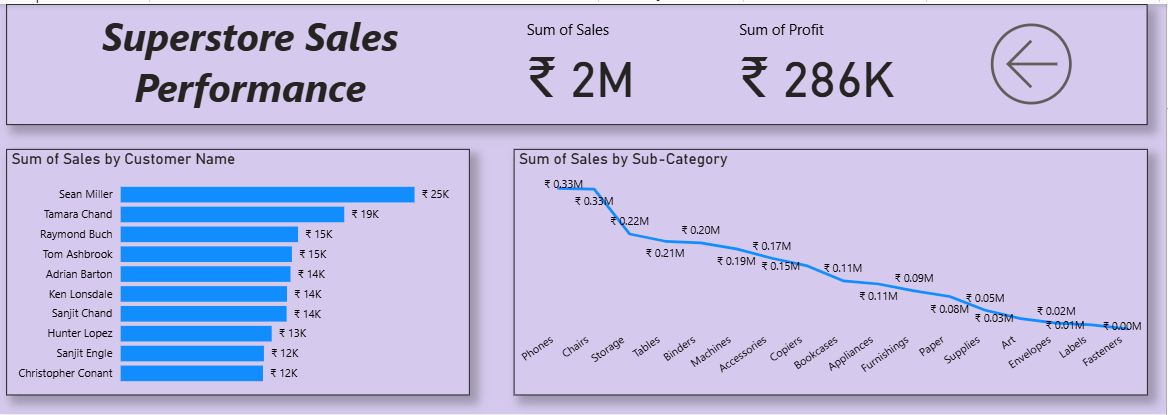

Layout of this report page (visuals, bound fields, positions):
{"tool":"powerbi","page":{"name":"Page 2","canvas":[1280,450],"ordinal":1},"visuals":[{"type":"group","id":"g1","title":"Group 1","box":[6.9,0,1252.8,133.1],"z":0},{"type":"shape","box":[6.9,0,1252.8,133.1],"z":0,"group":"g1"},{"type":"barChart","fields":{"Y":["Sum(Superstore.Sales)"],"Category":["Superstore.Customer Name"]},"box":[6.9,159.2,509.1,270.3],"z":1},{"type":"lineChart","fields":{"Y":["Sum(Superstore.Sales)"],"Category":["Superstore.Sub-Category"]},"box":[564,159.2,695.7,270.3],"z":2},{"type":"actionButton","box":[1077.2,11,120.8,109.8],"z":3},{"type":"cardVisual","fields":{"Data":["Sum(Superstore.Sales)"]},"box":[561.5,0,161.9,120.8],"z":1000,"group":"g1"},{"type":"cardVisual","fields":{"Data":["Sum(Superstore.Profit)"]},"box":[794.7,0,219.6,120.8],"z":2000,"group":"g1"},{"type":"textbox","box":[20.8,0,507.7,133.1],"z":11001,"group":"g1"}]}

Visuals, with their boxes in screenshot pixels (x1, y1, x2, y2), scaled from the page's 1280x450 canvas onto the 1168x415 screenshot:
"Group 1" group: detection(6, 0, 1149, 123)
shape: detection(6, 0, 1149, 123)
barChart - Sum(Superstore.Sales) x Superstore.Customer Name: detection(6, 147, 471, 396)
lineChart - Sum(Superstore.Sales) x Superstore.Sub-Category: detection(515, 147, 1149, 396)
actionButton: detection(983, 10, 1093, 111)
cardVisual - Sum(Superstore.Sales): detection(512, 0, 660, 111)
cardVisual - Sum(Superstore.Profit): detection(725, 0, 926, 111)
textbox: detection(19, 0, 482, 123)
